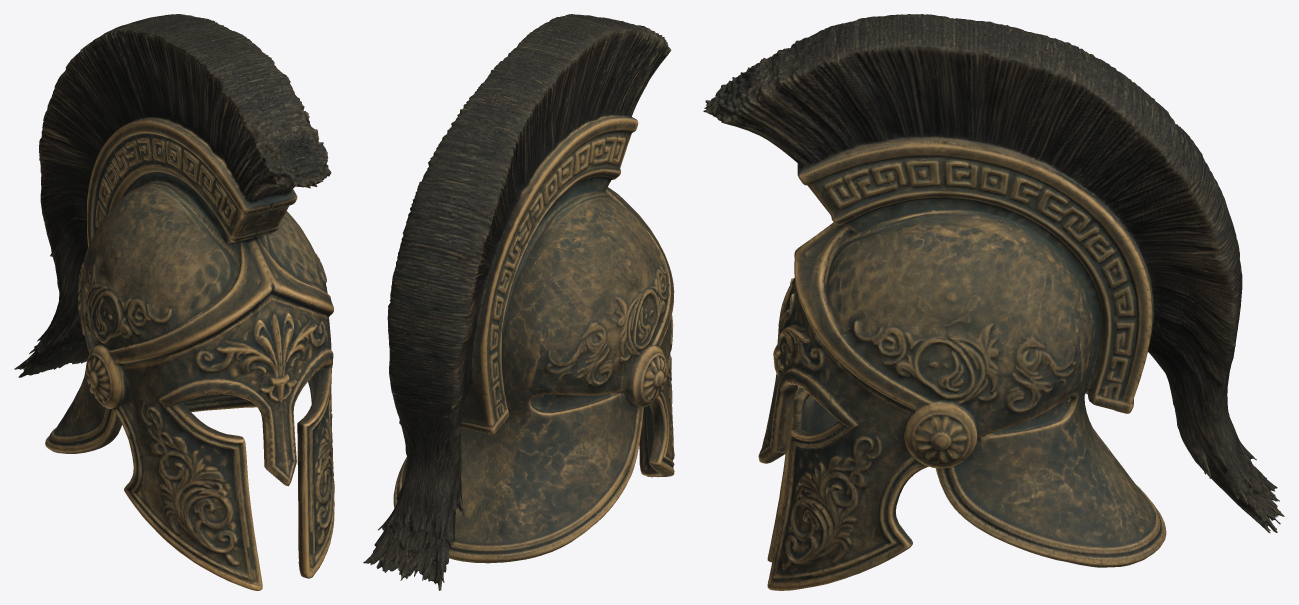
Rendered from WF_GreekRelics_CorinthianHelmet.fbx.
The picture shows the model from 3 angles, left to right: view 1: azimuth 30°, elevation 25°; view 2: azimuth 150°, elevation 25°; view 3: azimuth 270°, elevation 25°; orthographic projection. The views are drawn at different scales.
Parts seen in each view (by area): view 1: Mesh1.0; view 2: Mesh1.0; view 3: Mesh1.0.
Part boxes in pixels (<box>): Mesh1.0: <box>14,14,334,590</box>; Mesh1.0: <box>363,14,674,590</box>; Mesh1.0: <box>703,14,1284,590</box>.
Bounding box in the file's own units: 93.7 × 191 × 184.
1 material, 1 textured.
